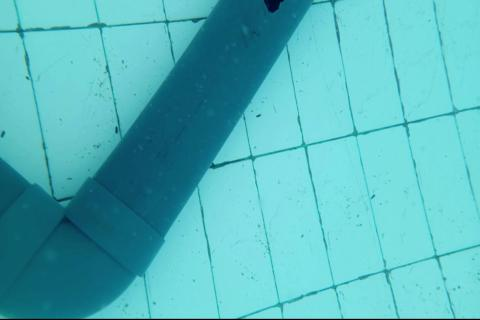kebocoran: (263, 0, 285, 14)
